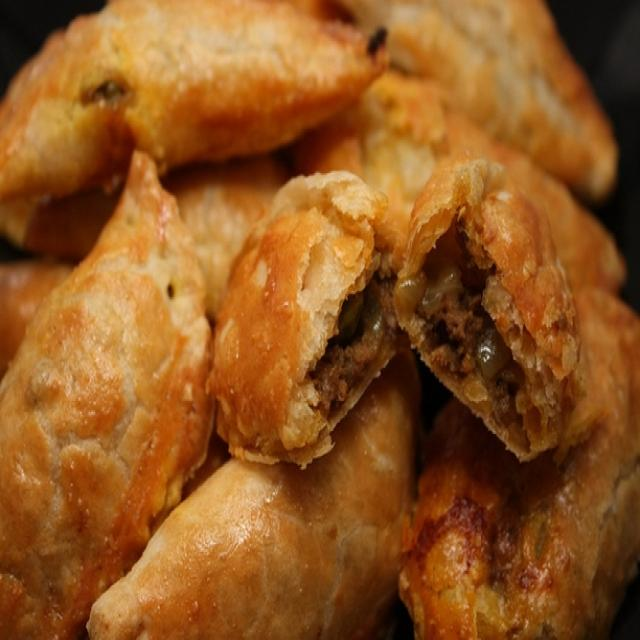炸货点心: (25, 31, 603, 607)
